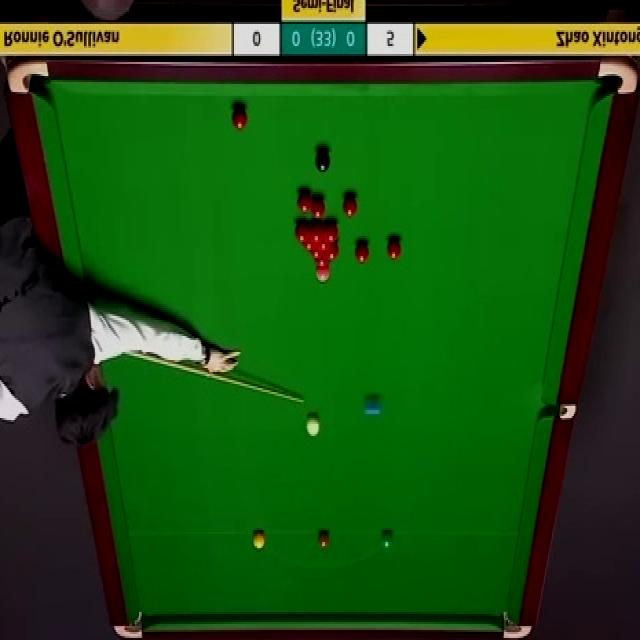pocket: (597, 55, 639, 97), (5, 57, 51, 95), (500, 608, 532, 640), (112, 611, 147, 640), (541, 405, 576, 420)
